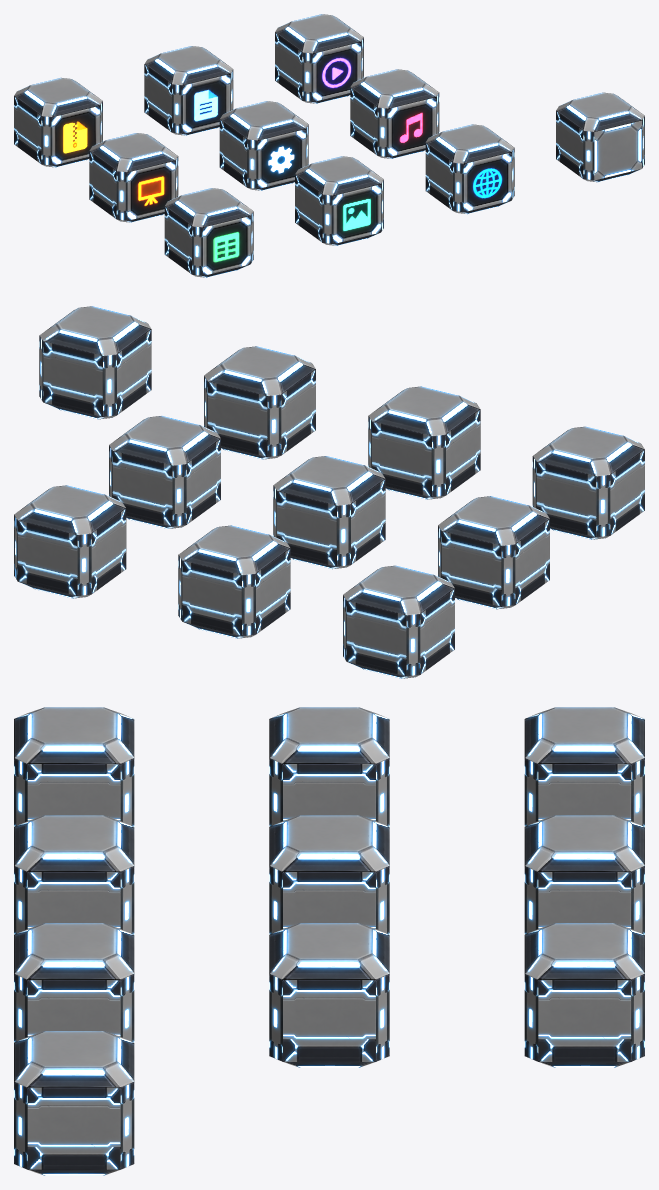
The model's file is process.glb.
The picture shows the model from 3 angles, top to bottom: view 1: azimuth 30°, elevation 25°; view 2: azimuth 150°, elevation 25°; view 3: azimuth 270°, elevation 25°; orthographic projection. The views are drawn at different scales.
Visible parts, largest first — view 1: proccess_internet, process_sheets, process_default, process_image, process_audio, process_config, process_docs, process_slides, process_zip, process_video; view 2: process_video, process_default, process_docs, process_zip, process_image, process_config, process_sheets, proccess_internet, process_audio, process_slides; view 3: process_audio, process_default, process_video, process_sheets, process_zip, process_slides, process_config, process_docs, process_image, proccess_internet.
Part boxes in pixels (left/top/right/bottom): proccess_internet: left=425, top=124, right=514, bottom=214; process_sheets: left=164, top=188, right=253, bottom=277; process_default: left=556, top=92, right=644, bottom=182; process_image: left=295, top=156, right=383, bottom=245; process_audio: left=350, top=69, right=439, bottom=158; process_config: left=219, top=101, right=308, bottom=190; process_docs: left=144, top=46, right=233, bottom=135; process_slides: left=89, top=133, right=178, bottom=222; process_zip: left=14, top=77, right=102, bottom=167; process_video: left=275, top=14, right=363, bottom=103; process_video: left=14, top=485, right=126, bottom=598; process_default: left=39, top=306, right=151, bottom=419; process_docs: left=178, top=525, right=290, bottom=638; process_zip: left=343, top=565, right=454, bottom=678; process_image: left=368, top=386, right=480, bottom=499; process_config: left=273, top=456, right=385, bottom=569; process_sheets: left=532, top=426, right=644, bottom=539; proccess_internet: left=204, top=346, right=315, bottom=459; process_audio: left=109, top=416, right=220, bottom=528; process_slides: left=438, top=496, right=549, bottom=609; process_audio: left=269, top=923, right=389, bottom=1067; process_default: left=14, top=1031, right=134, bottom=1175; process_video: left=524, top=923, right=644, bottom=1067; process_sheets: left=14, top=707, right=134, bottom=826; process_zip: left=524, top=707, right=644, bottom=826; process_slides: left=269, top=707, right=389, bottom=826; process_config: left=269, top=815, right=389, bottom=934; process_docs: left=524, top=815, right=644, bottom=934; process_image: left=14, top=815, right=134, bottom=934; proccess_internet: left=14, top=923, right=134, bottom=1042.
Size of the model in its own units: 3.47 by 0.4676 by 2.47.
1 material, 1 textured.
